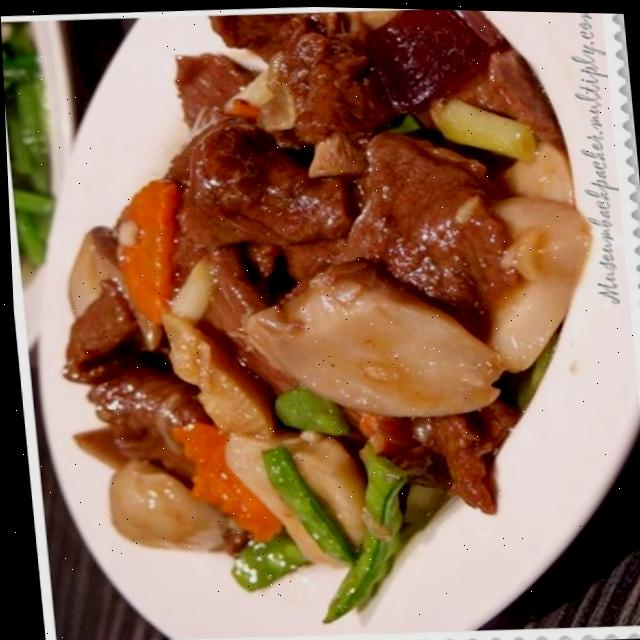牛肉菜式: (13, 0, 630, 625)
